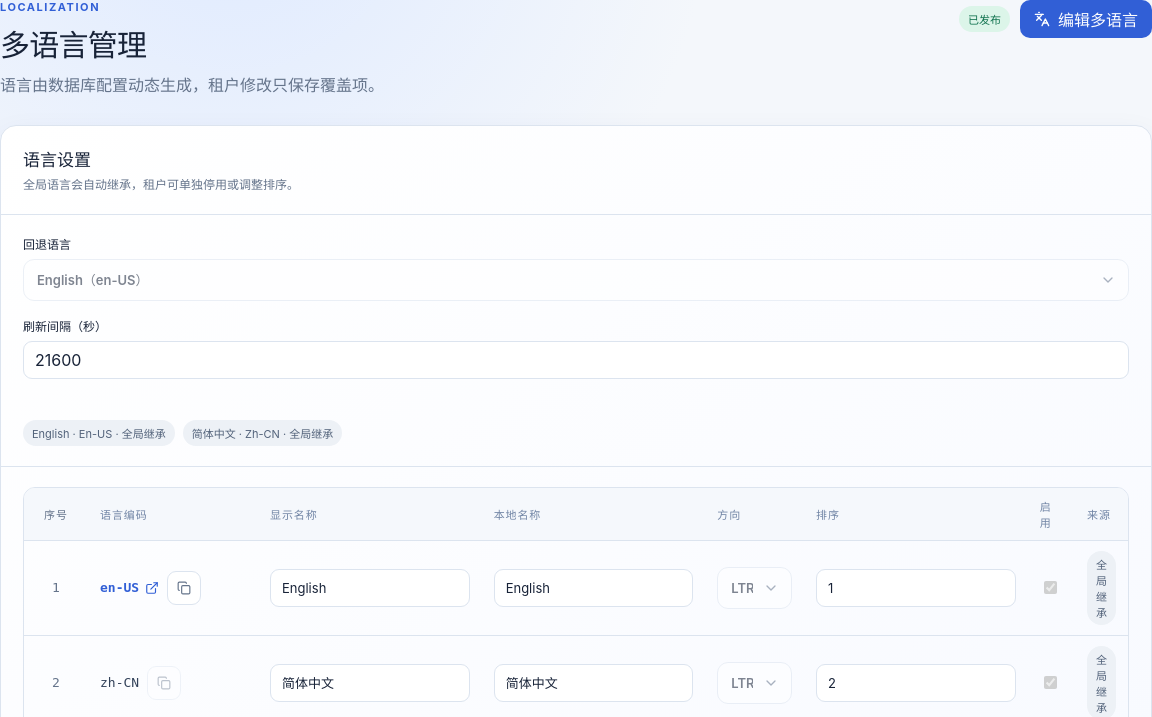
Test case: LocalizationPage draft workflow › shows the full reason form only after choosing a publish action
The width and height of the screenshot is (1152, 717).
Expected: the button "重新发布资源" is not shown
Expected: the text "修改原因" is not shown
Click the button "编辑多语言" at (1086, 19), box [1020,0,1151,38]
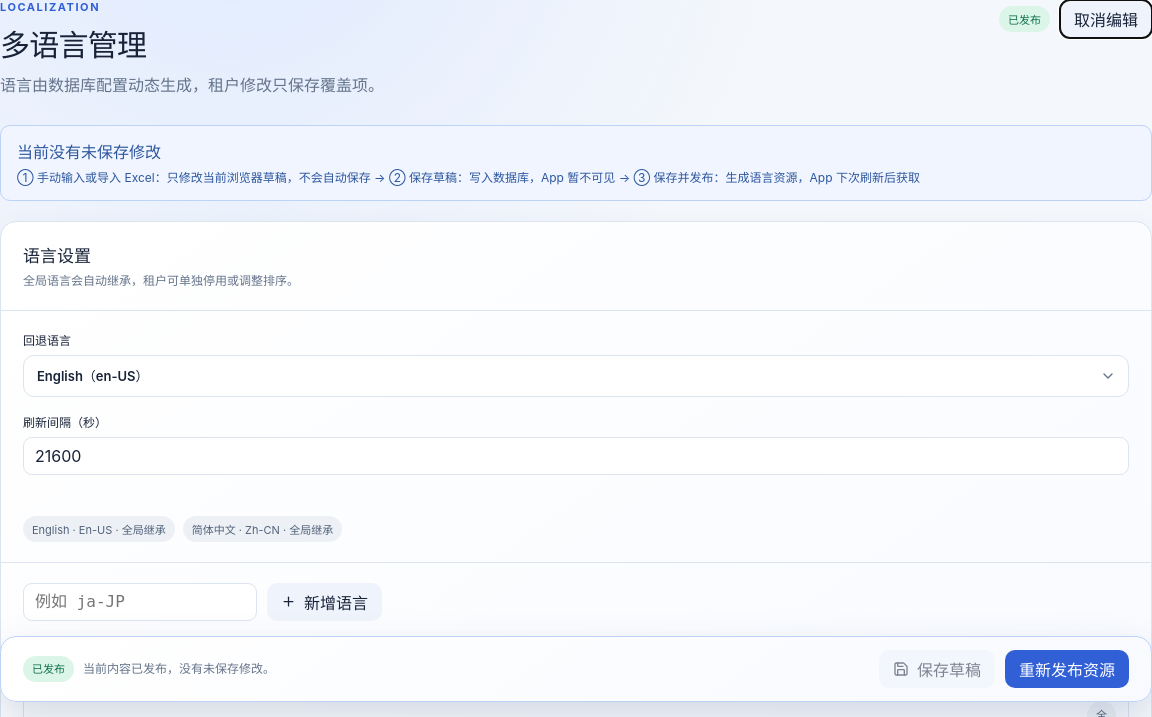
Expected: the text "修改原因" is not shown
Now the button "重新发布资源" is shown
Click the button "重新发布资源" at (1067, 669), box [1005,650,1129,688]
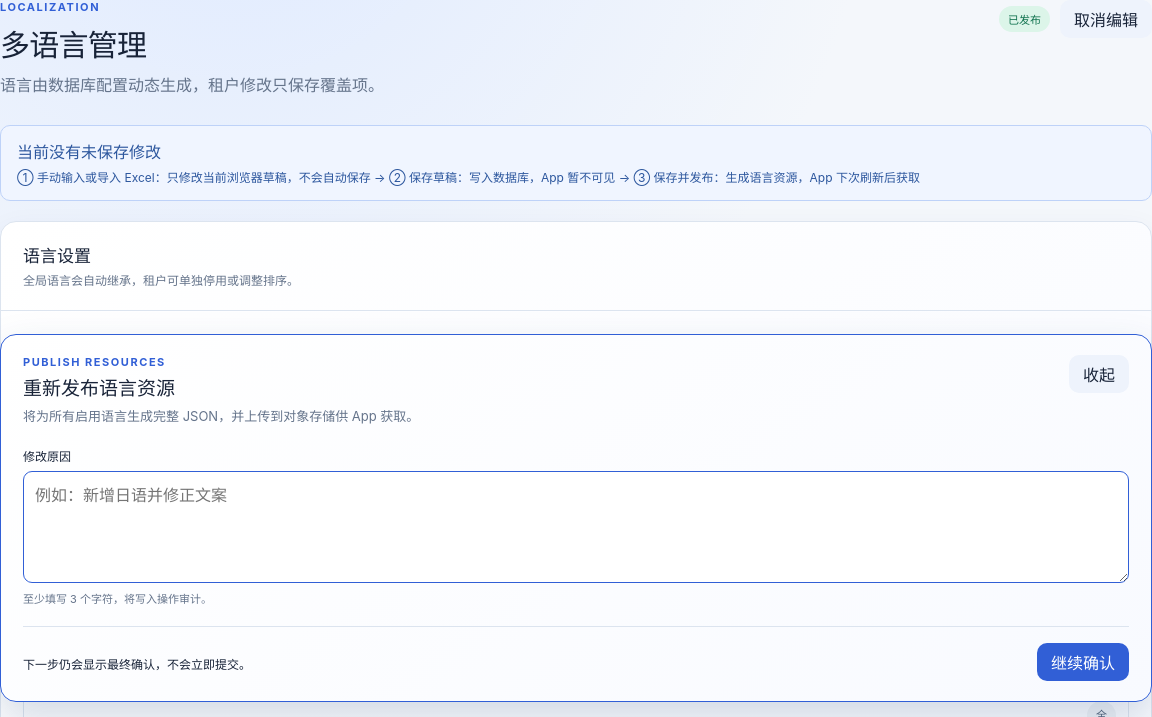
Now the heading "重新发布语言资源" is shown, box [23,377,175,400]
Now the text "修改原因" is shown, box [23,449,71,464]
Now the button "继续确认" is shown
Click the button "继续确认" at (1083, 662), box [1037,643,1129,681]
(page scrolled)
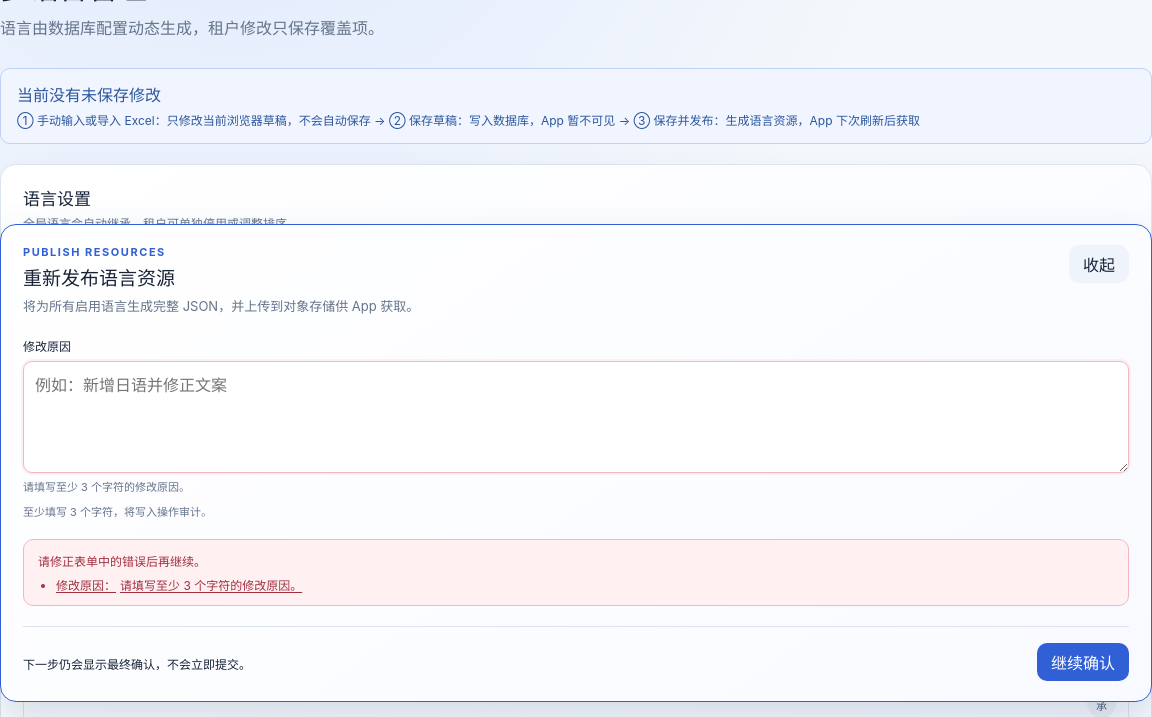
Now the text box with placeholder "例如：新增日语并修正文案" is marked as invalid, box [23,361,1129,473]
Click the button "收起" at (1099, 264), box [1069,245,1129,283]
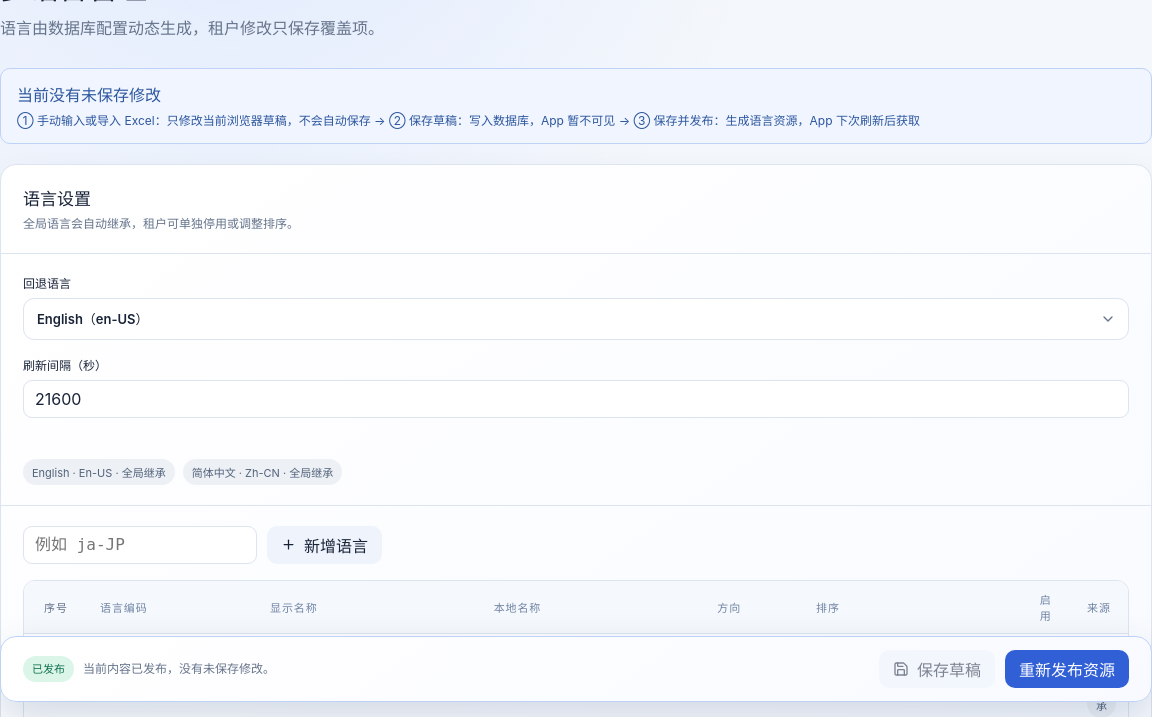
Now the text "修改原因" is gone
